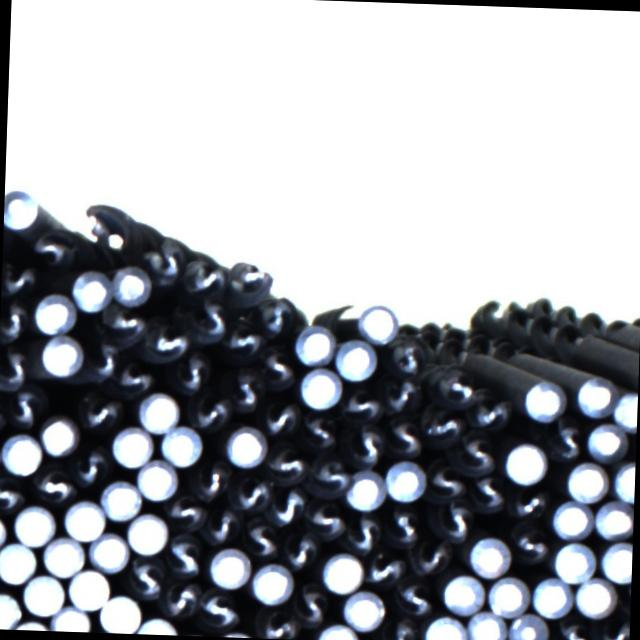tool: (108, 262, 154, 308), (550, 540, 596, 583), (565, 460, 609, 504), (468, 534, 512, 578), (11, 503, 56, 546), (98, 476, 141, 520), (67, 566, 109, 610), (298, 366, 342, 408), (159, 422, 201, 466), (68, 268, 110, 312), (573, 375, 615, 419), (135, 458, 177, 501), (42, 534, 85, 576), (22, 572, 64, 615), (97, 592, 140, 634), (136, 390, 179, 432), (250, 561, 292, 604), (522, 379, 564, 422), (224, 425, 266, 468), (442, 572, 485, 614), (504, 441, 546, 484), (487, 574, 529, 616), (383, 460, 425, 502), (333, 338, 376, 379), (591, 498, 634, 539), (548, 498, 592, 538), (530, 576, 571, 618), (111, 425, 153, 466), (573, 576, 614, 618), (64, 498, 105, 540), (340, 588, 382, 629), (0, 431, 40, 474), (319, 552, 362, 592), (88, 530, 128, 572), (356, 304, 398, 344), (294, 324, 334, 366), (584, 420, 626, 460), (344, 470, 384, 512), (40, 412, 78, 456), (126, 512, 167, 552), (208, 548, 249, 588), (40, 336, 80, 376), (34, 294, 74, 334), (0, 540, 37, 583), (3, 187, 40, 230), (599, 541, 632, 583), (465, 609, 506, 640), (423, 612, 466, 640), (610, 388, 638, 430), (50, 603, 90, 632), (506, 612, 547, 640), (611, 458, 635, 501), (0, 589, 22, 629), (136, 615, 176, 635), (316, 621, 358, 640)
tool_b: (30, 222, 80, 272), (84, 196, 128, 246), (429, 502, 478, 544), (390, 574, 436, 618), (182, 250, 224, 298), (141, 235, 182, 284), (98, 303, 146, 344), (407, 539, 455, 580), (224, 258, 275, 296), (162, 531, 204, 576), (186, 460, 230, 502), (80, 337, 120, 383), (9, 382, 48, 429), (384, 416, 426, 459), (306, 499, 348, 542), (72, 444, 110, 490), (157, 580, 200, 620), (192, 296, 229, 342), (294, 584, 331, 630), (228, 362, 262, 412), (266, 442, 308, 482), (200, 502, 240, 544), (242, 518, 282, 560), (146, 320, 190, 358), (346, 422, 384, 466), (161, 492, 206, 528), (425, 461, 465, 501), (466, 472, 506, 512), (472, 394, 514, 432), (124, 558, 162, 600), (389, 338, 428, 378), (311, 455, 350, 495), (282, 531, 322, 570), (188, 394, 232, 429), (79, 395, 120, 432), (1, 258, 38, 299), (32, 468, 74, 504), (420, 408, 463, 443), (230, 477, 268, 516), (267, 486, 304, 526), (386, 510, 423, 550), (512, 525, 548, 566), (300, 410, 338, 448), (342, 383, 380, 421), (260, 346, 296, 386), (364, 550, 404, 586), (383, 378, 420, 416), (258, 297, 298, 332), (461, 435, 496, 475), (198, 590, 235, 627), (261, 399, 297, 437), (550, 422, 586, 460), (436, 368, 476, 402), (348, 511, 380, 553), (176, 352, 208, 393), (257, 607, 298, 639), (511, 484, 546, 521), (0, 348, 30, 391), (115, 362, 154, 395), (0, 301, 30, 342), (225, 325, 266, 355), (382, 615, 419, 640), (0, 479, 26, 513), (560, 619, 592, 640), (594, 622, 629, 640)
